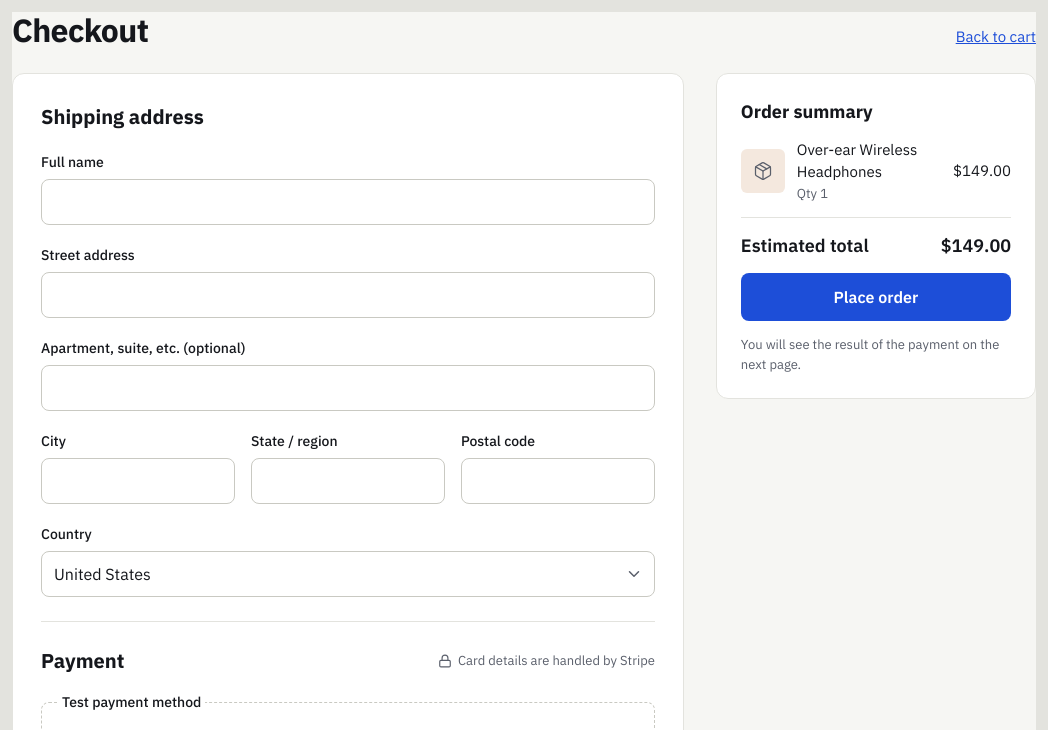
CheckoutPage › shows the API’s message for a rejected order
Type "Alex Morgan" into the field labelled "Full name" at (348, 202), box x1=41 y1=179 x2=655 y2=225
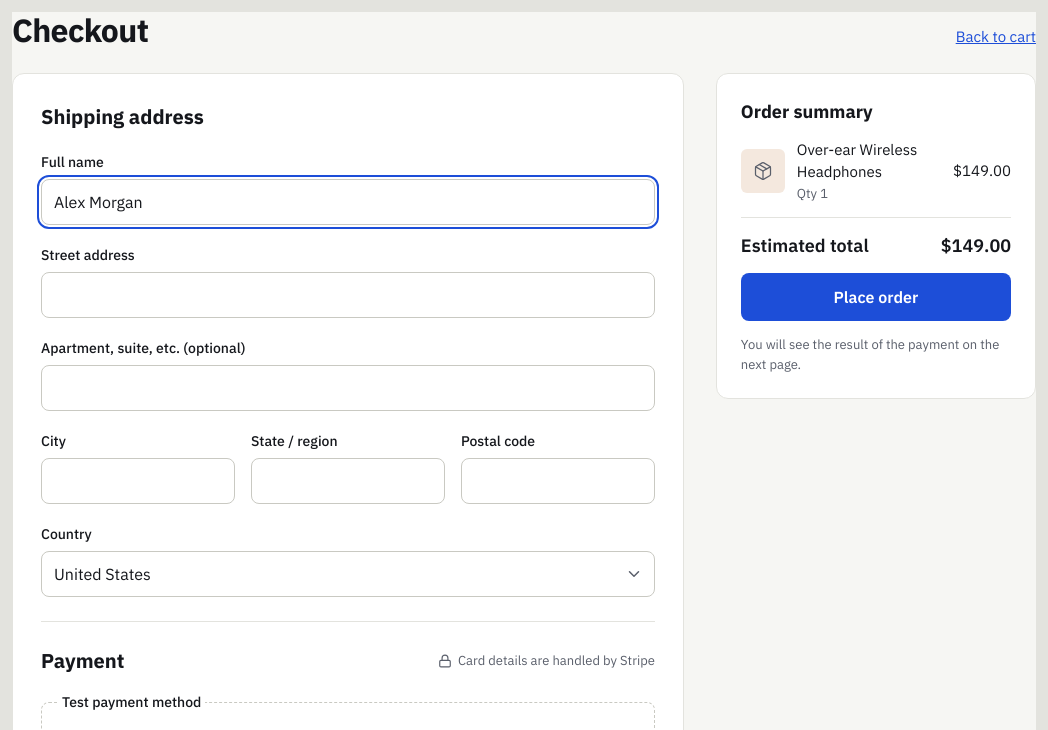
Type "221 Harbor St" into the field labelled "Street address" at (348, 295), box x1=41 y1=272 x2=655 y2=318
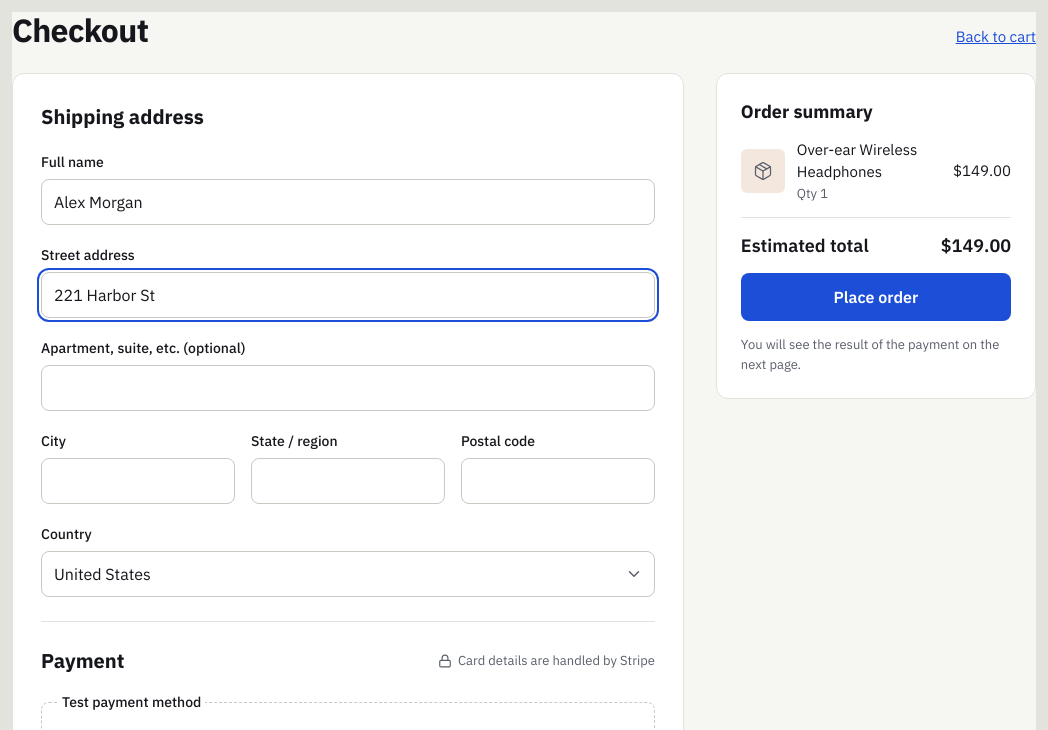
Type "Portland" into the field labelled "City" at (138, 481), box x1=41 y1=458 x2=235 y2=504
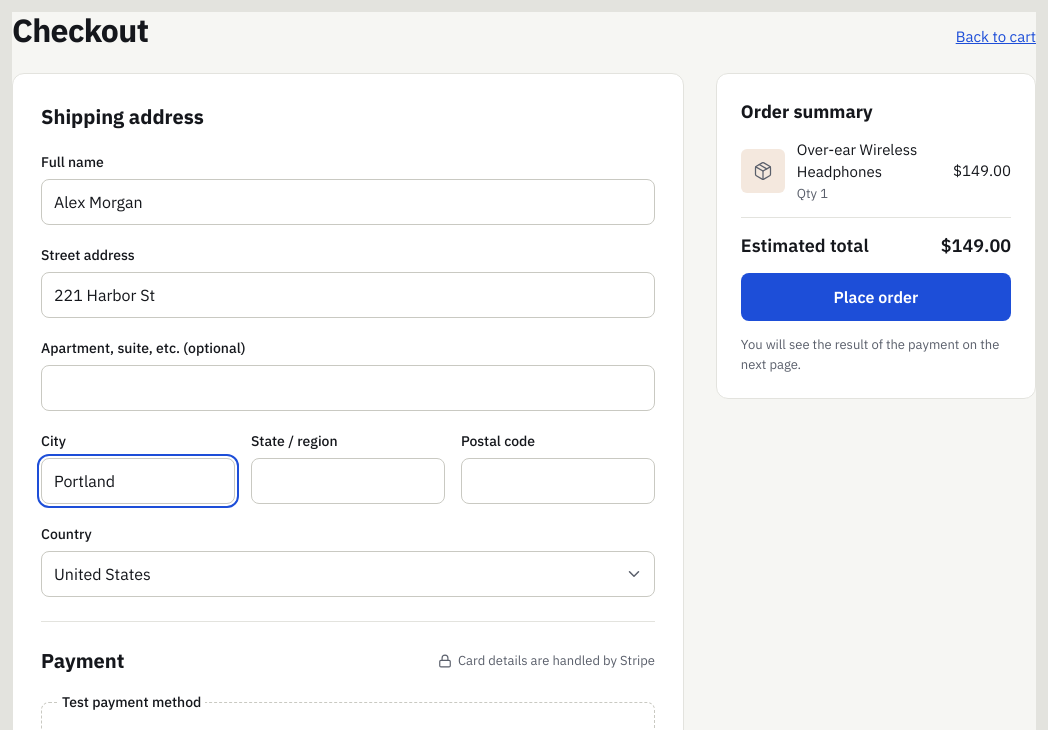
Type "OR" into the field labelled "State / region" at (348, 481), box x1=251 y1=458 x2=445 y2=504
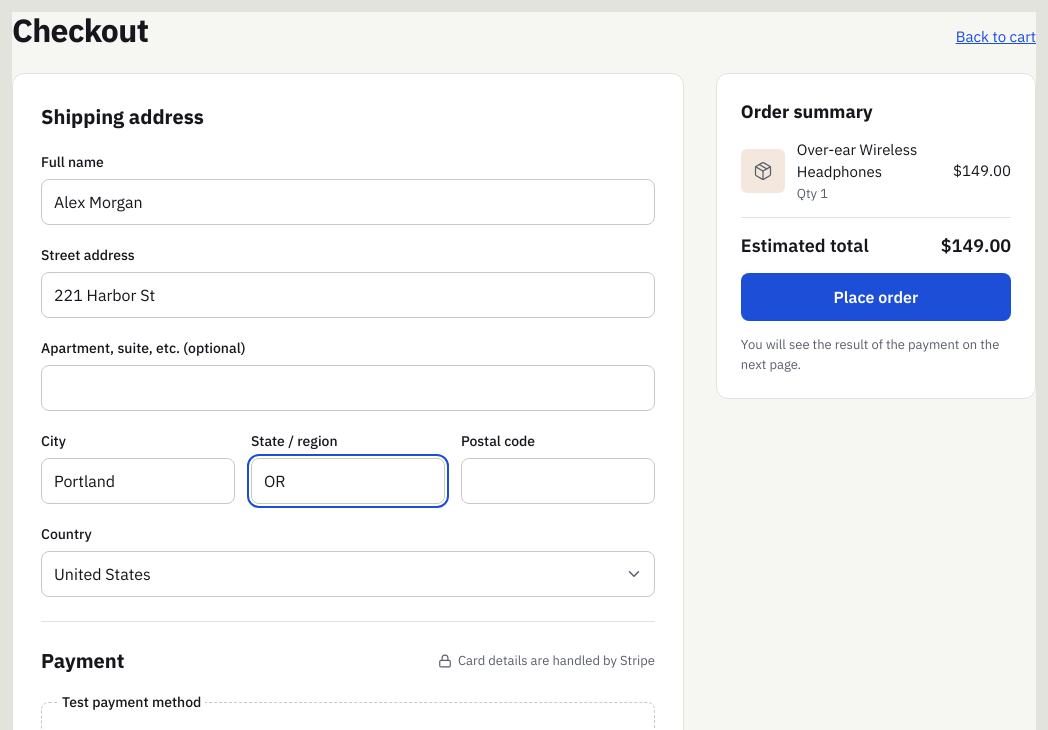
Type "97201" into the field labelled "Postal code" at (558, 481), box x1=461 y1=458 x2=655 y2=504
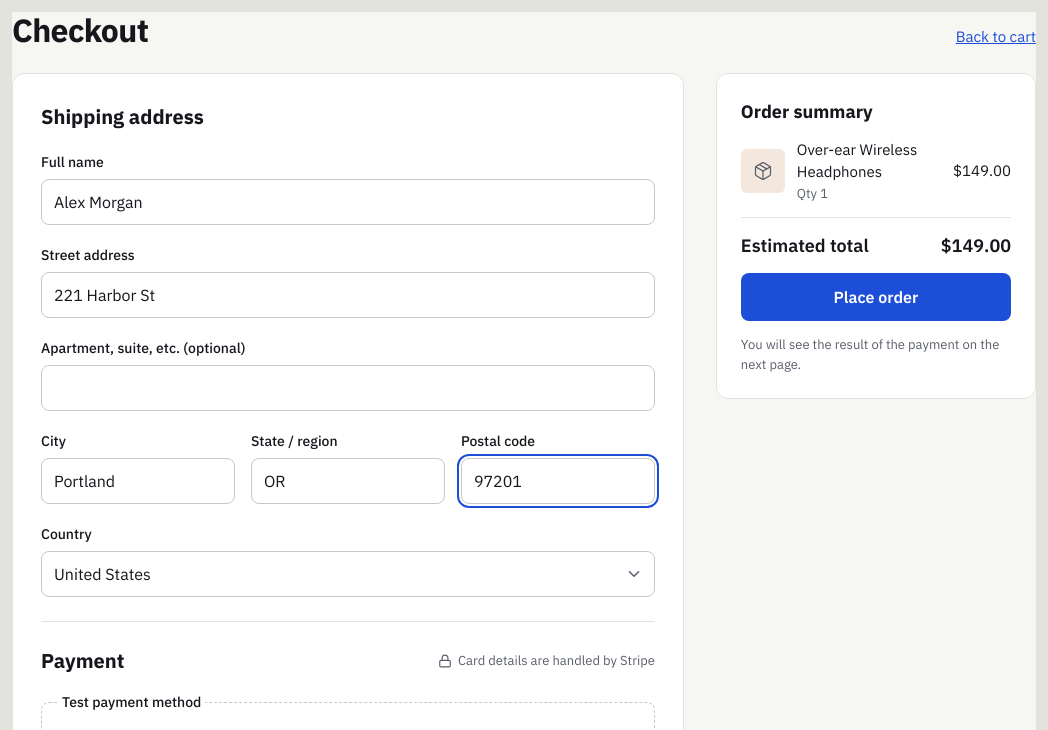
Click the button "Place order" at (876, 297), box x1=741 y1=273 x2=1011 y2=321
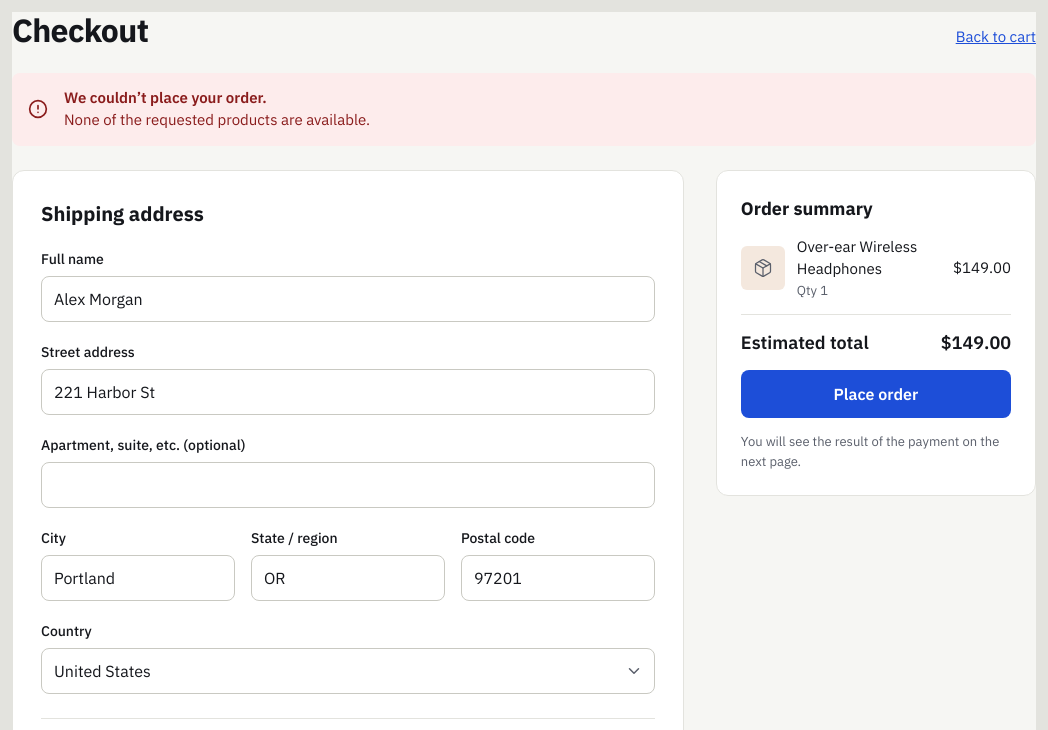
expect the button "Place order" is enabled: met, box x1=741 y1=370 x2=1011 y2=418
expect the message shows "None of the requested products are available.": met, box x1=64 y1=110 x2=370 y2=129
